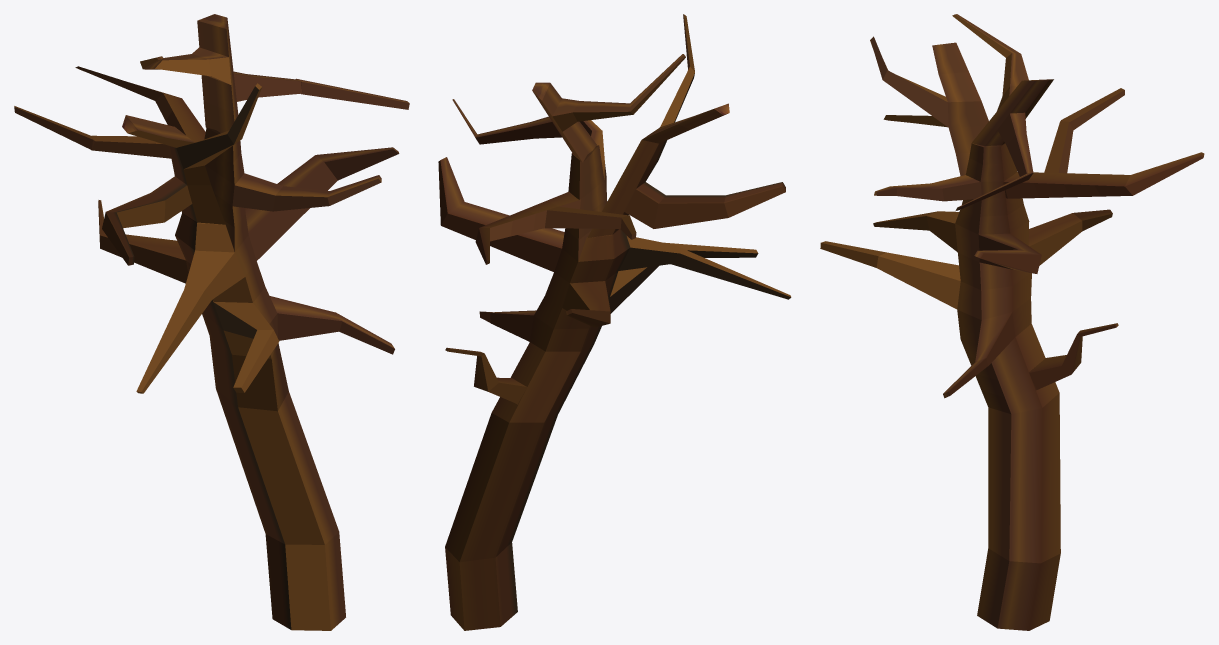
Rendered from crooked tree.glb.
The picture shows the model from 3 angles, left to right: view 1: azimuth 30°, elevation 25°; view 2: azimuth 150°, elevation 25°; view 3: azimuth 270°, elevation 25°; orthographic projection. The views are drawn at different scales.
Parts seen in each view (by area): view 1: Cube; view 2: Cube; view 3: Cube.
Boxes of the visible parts, bbox=[...] form: Cube: bbox=[14, 14, 409, 630]; Cube: bbox=[438, 14, 791, 630]; Cube: bbox=[820, 14, 1204, 630].
Bounding box in the file's own units: 11.9 × 22.19 × 14.51.
Materials: 1 (1 with a texture image).
